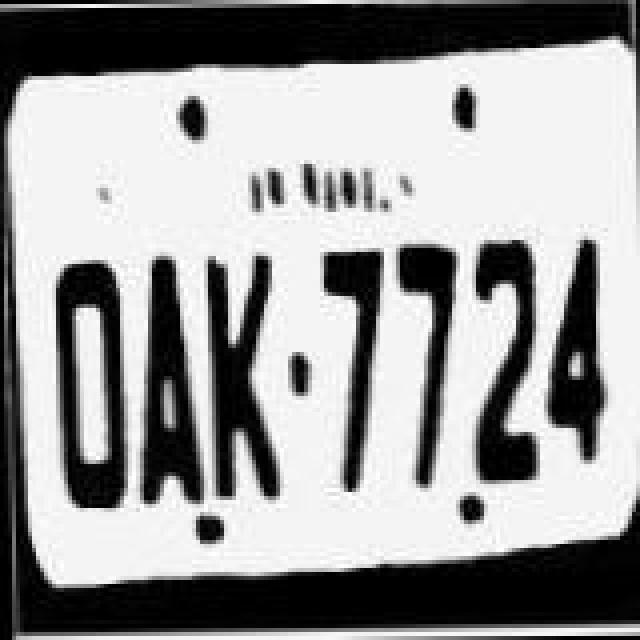2: (462, 228, 546, 484)
4: (540, 216, 612, 472)
7: (316, 248, 396, 496), (390, 232, 466, 492)
A: (132, 248, 208, 508)
K: (198, 248, 290, 508)
O: (38, 248, 134, 520)
